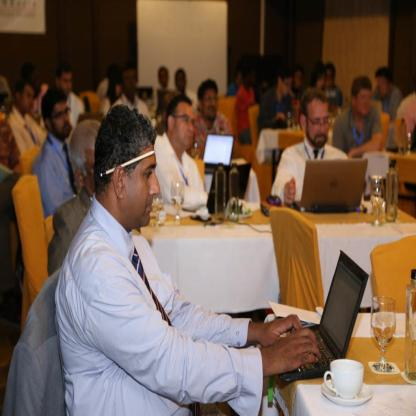board: (278, 250, 369, 375), (293, 153, 372, 219), (181, 162, 251, 210), (204, 132, 235, 173), (406, 269, 416, 382), (385, 155, 399, 221), (400, 119, 407, 153)
